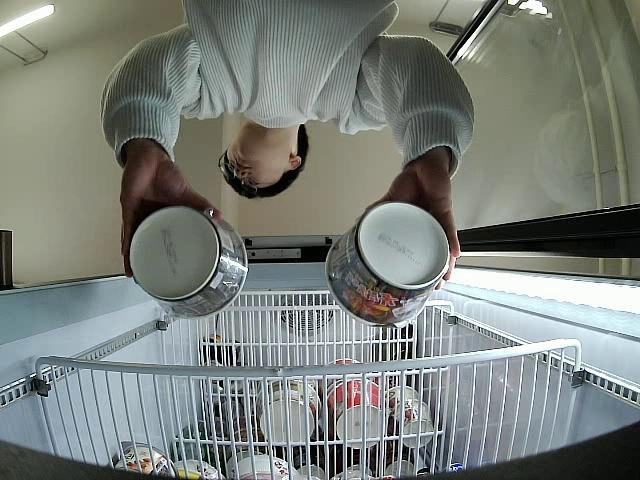00_hand: (363, 161, 463, 291), (121, 157, 224, 279)
07_buldak_L: (325, 199, 450, 327), (129, 208, 246, 319)
